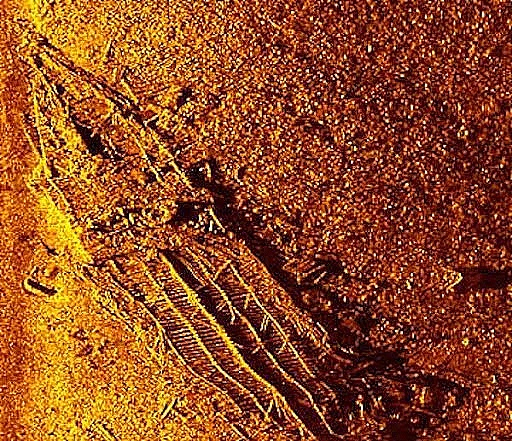ship: (18, 22, 389, 441)
